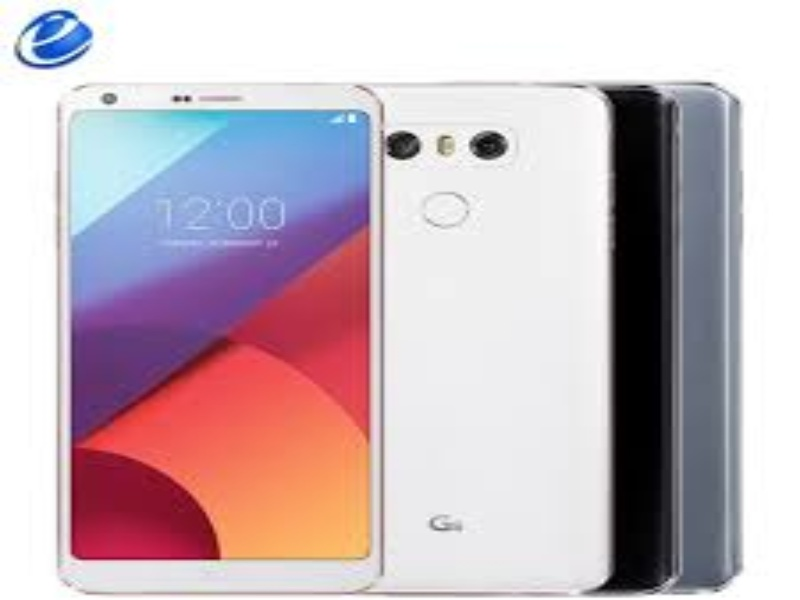mobile: (42, 76, 401, 600), (355, 48, 620, 600)
